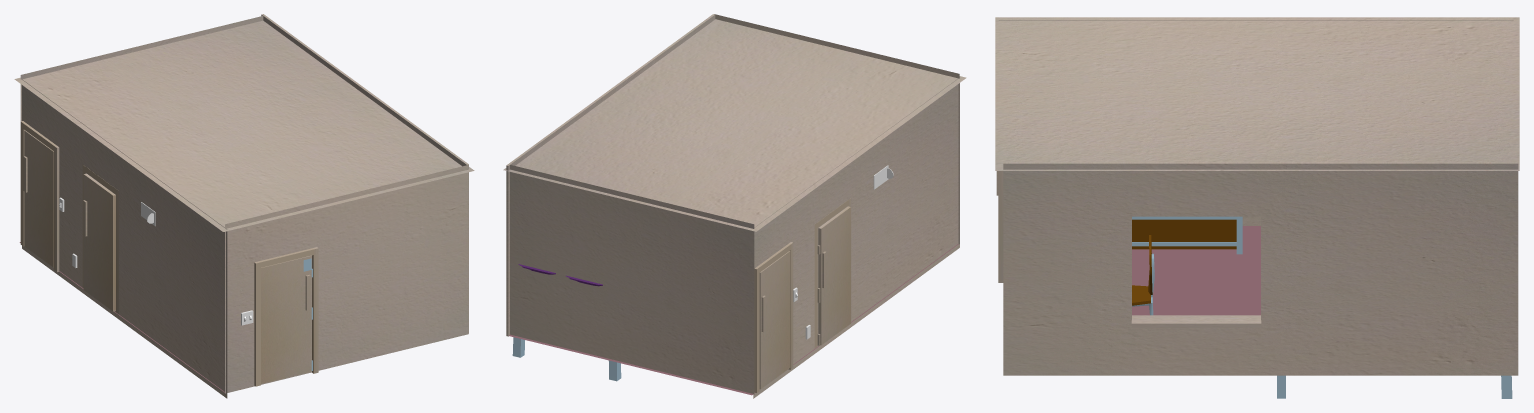
3 renders of one model, left to right at view 1: azimuth 30°, elevation 25°; view 2: azimuth 150°, elevation 25°; view 3: azimuth 270°, elevation 25°, orthographic. The views are drawn at different scales.
Visible parts, largest first — view 1: nurbsPlane2, nurbsPlane4, nurbsPlane3, pCube1, pCube6, pCube7, pCube10, pCube12, nurbsPlane1, pCube11; view 2: nurbsPlane2, nurbsPlane1, nurbsPlane3, pCube6, pCube7, nurbsPlane4, pCube12, pCube11, nurbsPlane5, pCube38; view 3: nurbsPlane2, nurbsPlane5, pCube46, pCube43, pCube51, nurbsPlane3, pCube10, pCube38.
Part boxes in pixels (x1,y1,x2,y2): nurbsPlane2: (14, 14, 474, 333); nurbsPlane4: (225, 165, 468, 393); nurbsPlane3: (22, 79, 227, 398); pCube1: (261, 255, 312, 383); pCube6: (83, 173, 115, 311); pCube7: (23, 130, 53, 267); pCube10: (254, 247, 318, 386); pCube12: (20, 121, 59, 272); nurbsPlane1: (20, 16, 263, 121); pCube11: (82, 165, 118, 315); nurbsPlane2: (503, 14, 966, 336); nurbsPlane1: (510, 165, 754, 394); nurbsPlane3: (753, 78, 959, 398); pCube6: (817, 206, 850, 345); pCube7: (759, 251, 790, 389); nurbsPlane4: (714, 14, 959, 244); pCube12: (754, 242, 793, 392); pCube11: (814, 198, 851, 348); nurbsPlane5: (508, 244, 958, 395); pCube38: (512, 337, 621, 381); nurbsPlane2: (995, 17, 1519, 375); nurbsPlane5: (1132, 226, 1260, 315); pCube46: (1132, 219, 1236, 249); pCube43: (1132, 216, 1242, 254); pCube51: (1132, 235, 1154, 315); nurbsPlane3: (999, 20, 1513, 225); pCube10: (998, 171, 1003, 282); pCube38: (1277, 375, 1512, 398).
Size of the model in its own units: 22.73 by 16.14 by 32.15.
Materials: 12 (2 with a texture image).
